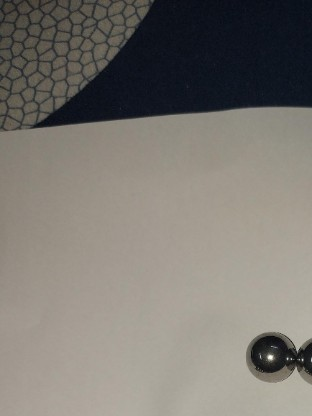ironball: (242, 326, 296, 381)
